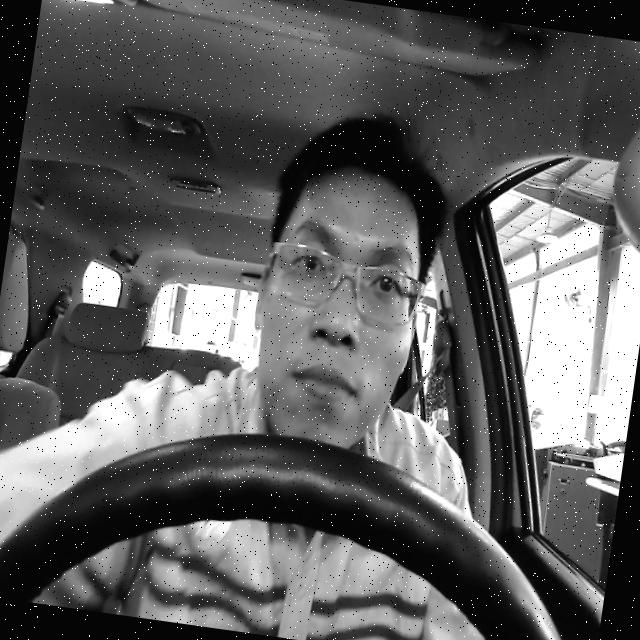focused: (240, 156, 440, 453)
